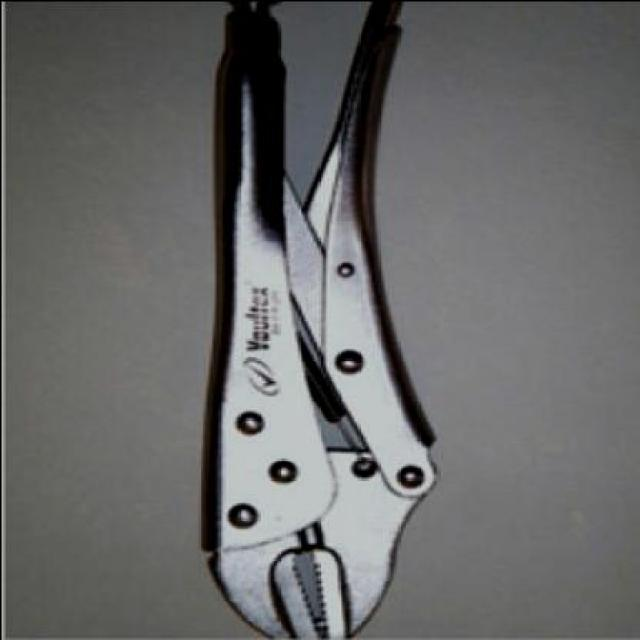pliers: (188, 0, 440, 637)
